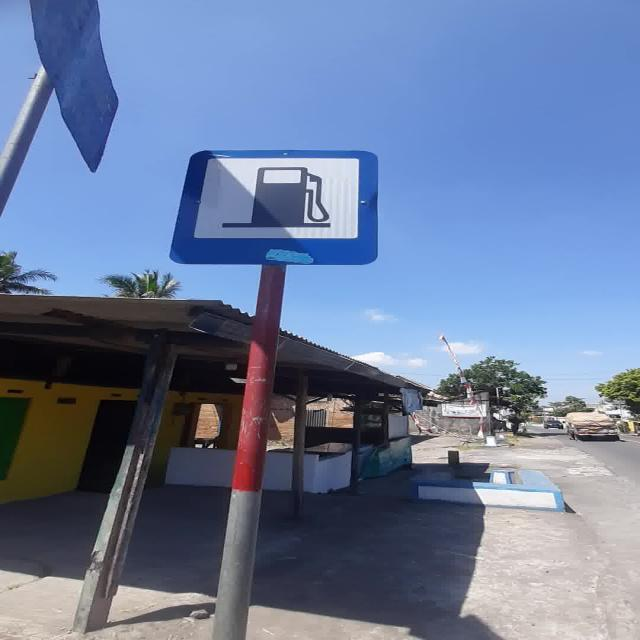Pom Bensin: (168, 150, 378, 265)
